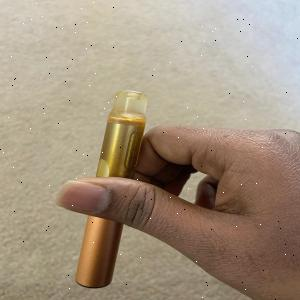Golden-E-Ciggirate: (65, 84, 156, 294)
